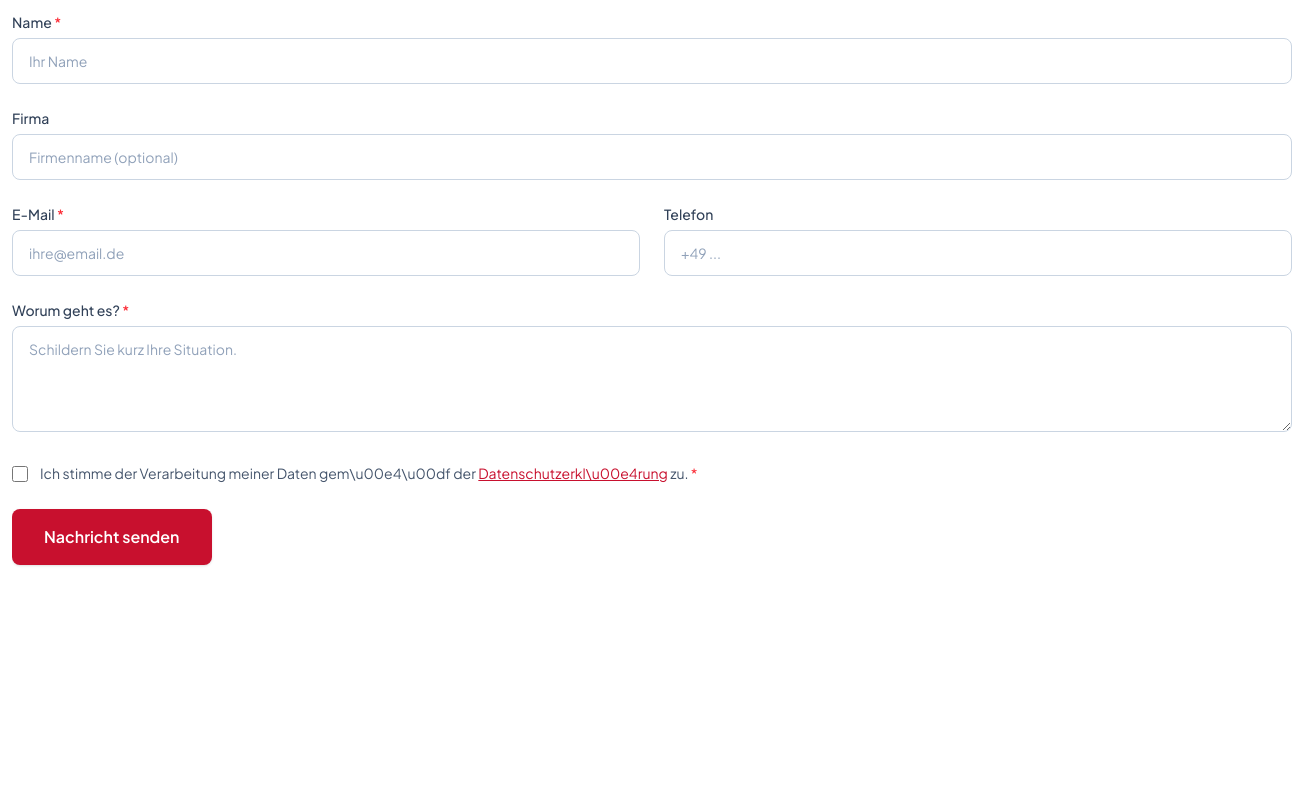
Test: ContactForm › shows validation errors on empty submit › shows name required error
Click the button "Nachricht senden": (112, 537) [12,509,212,565]
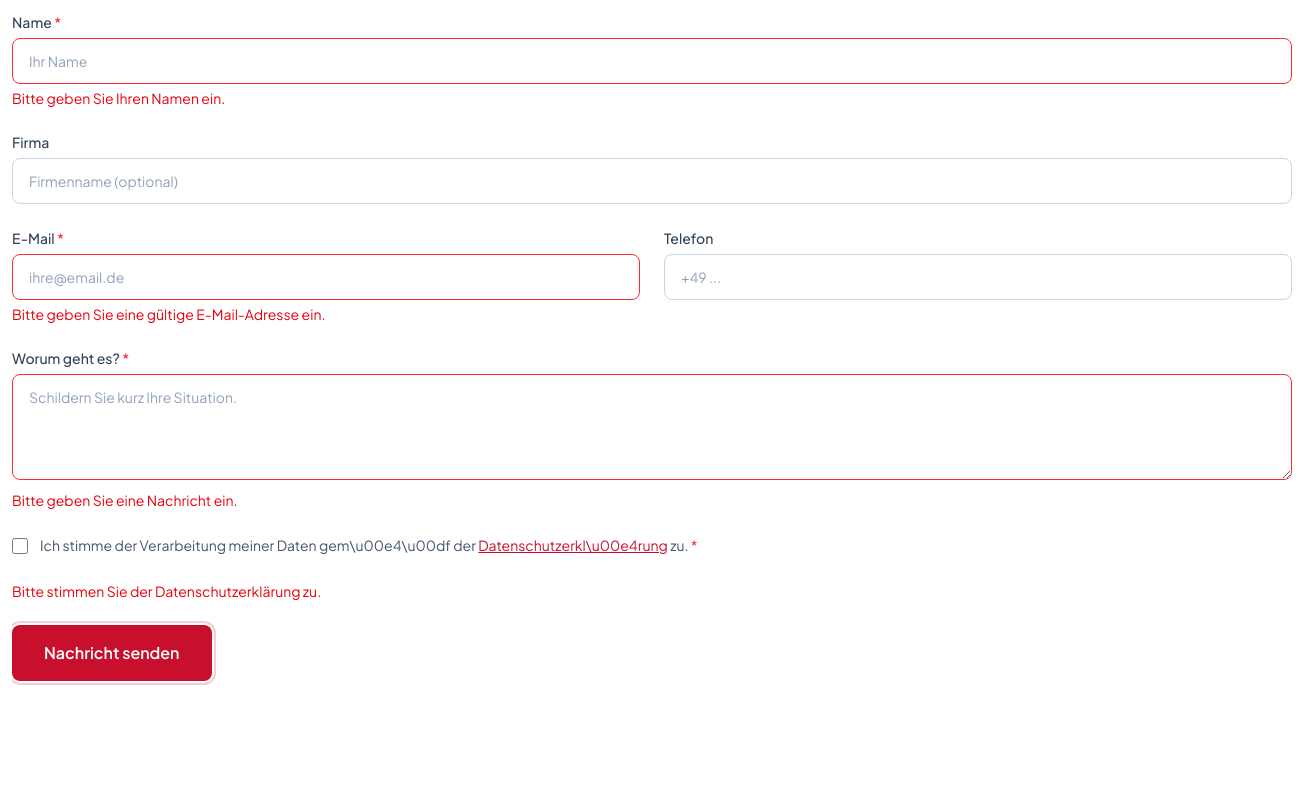
Expected: the text "Bitte geben Sie Ihren Namen ein." is shown, [12,89,225,107]
